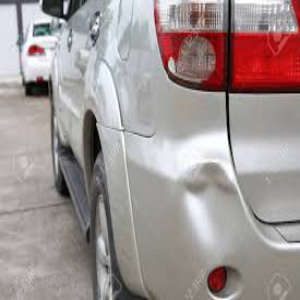bumper: (133, 149, 239, 256)
